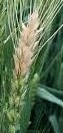Wheat scab: (7, 12, 42, 127)
